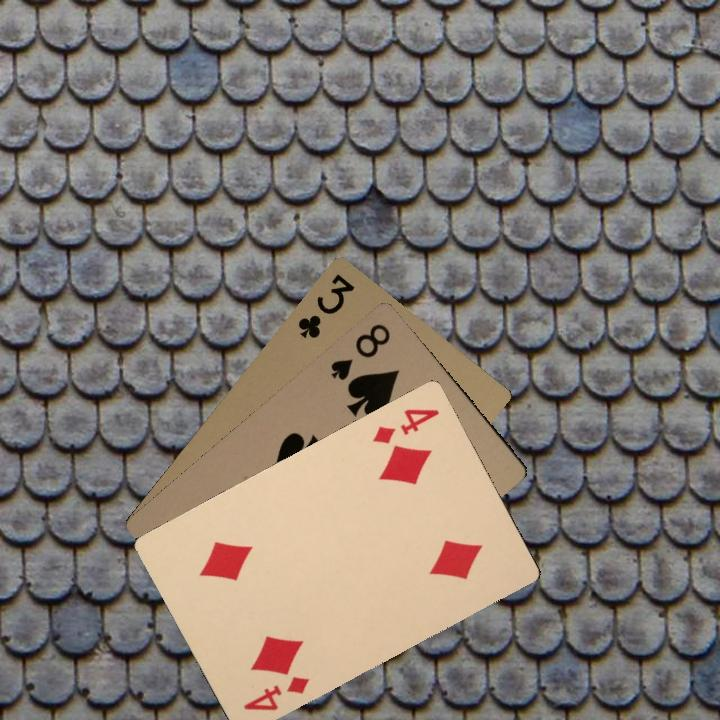3c: (293, 270, 358, 341)
4d: (368, 404, 442, 447), (239, 672, 312, 714)
8s: (326, 319, 393, 384)
